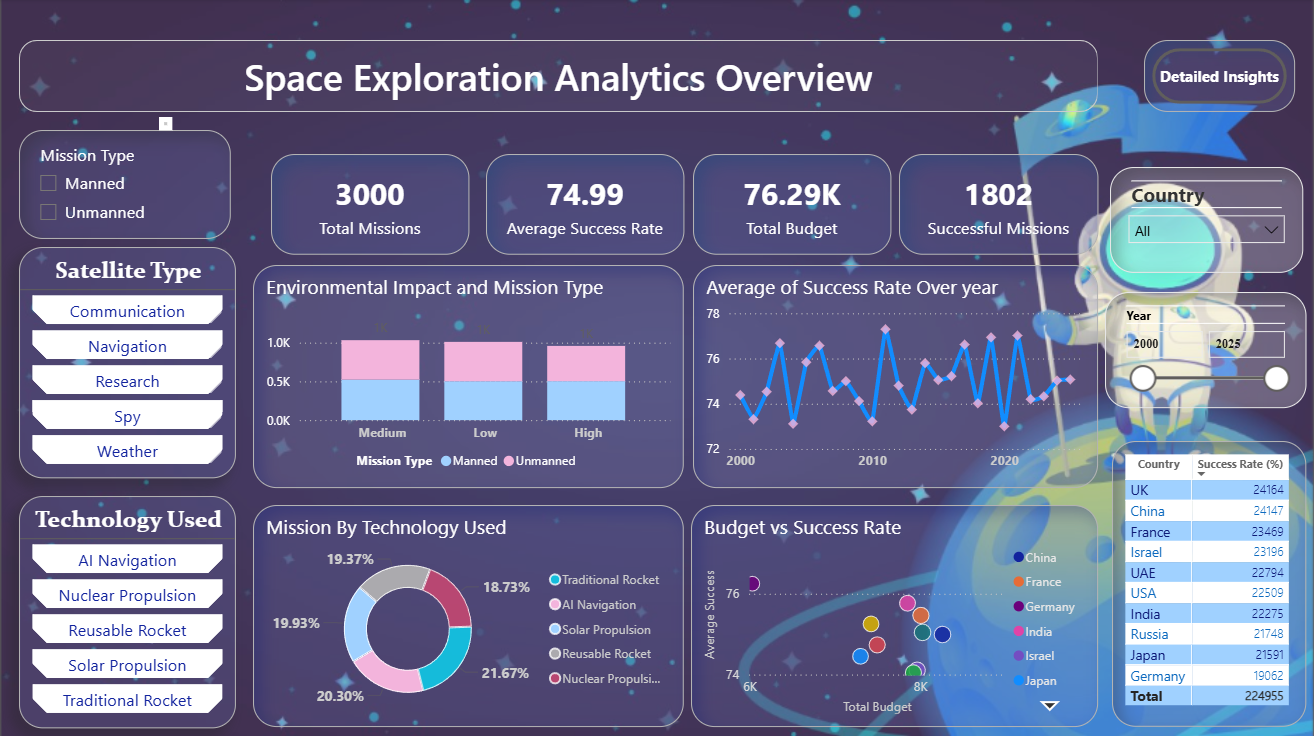

The dashboard page shown, as its layout file describes it:
{"tool":"powerbi","page":{"name":"Page 1","canvas":[1280,720],"ordinal":0},"visuals":[{"type":"card","fields":{"Values":["Global_Space_Exploration_Dataset.Total Missions"]},"box":[263.6,150.8,192.6,98.2],"z":0},{"type":"card","fields":{"Values":["Global_Space_Exploration_Dataset.Total Budget"]},"box":[674,150.8,192.6,98.2],"z":1000},{"type":"card","fields":{"Values":["Avg(Global_Space_Exploration_Dataset.Success Rate (%))"]},"box":[472.7,150.8,192.6,98.2],"z":2000},{"type":"card","fields":{"Values":["Global_Space_Exploration_Dataset.Successful Missions Count"]},"box":[874.4,150.8,193.6,98.2],"z":3000},{"type":"lineChart","title":"Average of Success Rate Over year","fields":{"Y":["Avg(Global_Space_Exploration_Dataset.Success Rate (%))"],"Category":["Global_Space_Exploration_Dataset.Year.Variation.Date Hierarchy.Year"]},"box":[674,258.7,393.9,216.9],"z":4000},{"type":"slicer","fields":{"Values":["Global_Space_Exploration_Dataset.Mission Type"]},"box":[24.3,127.4,200.4,106],"z":5000},{"type":"listSlicer","fields":{"Values":["Global_Space_Exploration_Dataset.Technology Used"]},"box":[18.5,483.4,211.1,225.7],"z":6000},{"type":"listSlicer","fields":{"Values":["Global_Space_Exploration_Dataset.Satellite Type"]},"box":[18.5,241.2,211.1,224.7],"z":7000},{"type":"slicer","fields":{"Values":["Global_Space_Exploration_Dataset.Year"]},"box":[1074.8,285,195.5,112.8],"z":8000},{"type":"scatterChart","title":"Budget vs Success Rate","fields":{"X":["Global_Space_Exploration_Dataset.Total Budget"],"Y":["Avg(Global_Space_Exploration_Dataset.Success Rate (%))"],"Series":["Global_Space_Exploration_Dataset.Country"],"Size":["Global_Space_Exploration_Dataset.Total Missions"]},"box":[672.1,492.2,395.9,215.9],"z":9000},{"type":"donutChart","title":"Mission By Technology Used","fields":{"Category":["Global_Space_Exploration_Dataset.Technology Used"],"Y":["CountNonNull(Global_Space_Exploration_Dataset.Mission Name)"]},"box":[246.1,492.2,419.2,215.9],"z":10000},{"type":"columnChart","title":"Environmental Impact and Mission Type","fields":{"Y":["Global_Space_Exploration_Dataset.Total Missions"],"Category":["Global_Space_Exploration_Dataset.Environmental Impact"],"Series":["Global_Space_Exploration_Dataset.Mission Type"]},"box":[246.1,258.7,419.2,216.9],"z":11000},{"type":"shape","box":[250,39.9,829.7,70],"z":12000},{"type":"textbox","box":[154.7,114.8,12.6,12.6],"z":13000},{"type":"pivotTable","fields":{"Rows":["Global_Space_Exploration_Dataset.Country"],"Values":["Sum(Global_Space_Exploration_Dataset.Success Rate (%))"]},"box":[1081.6,429.9,188.7,278.2],"z":14000},{"type":"actionButton","title":"De","box":[34,45.7,163.4,58.4],"z":15000},{"type":"slicer","fields":{"Values":["Global_Space_Exploration_Dataset.Country"]},"box":[1079.6,163.4,187.7,103.1],"z":16000}]}

Visuals, with their boxes in screenshot pixels (x1, y1, x2, y2), scaled from the page's 1280x720 canvas onto the 1314x736 screenshot:
card - Global_Space_Exploration_Dataset.Total Missions: left=271, top=154, right=468, bottom=255
card - Global_Space_Exploration_Dataset.Total Budget: left=692, top=154, right=890, bottom=255
card - Avg(Global_Space_Exploration_Dataset.Success Rate (%)): left=485, top=154, right=683, bottom=255
card - Global_Space_Exploration_Dataset.Successful Missions Count: left=898, top=154, right=1096, bottom=255
"Average of Success Rate Over year" lineChart: left=692, top=264, right=1096, bottom=486
slicer - Global_Space_Exploration_Dataset.Mission Type: left=25, top=130, right=231, bottom=239
listSlicer - Global_Space_Exploration_Dataset.Technology Used: left=19, top=494, right=236, bottom=725
listSlicer - Global_Space_Exploration_Dataset.Satellite Type: left=19, top=247, right=236, bottom=476
slicer - Global_Space_Exploration_Dataset.Year: left=1103, top=291, right=1304, bottom=407
"Budget vs Success Rate" scatterChart: left=690, top=503, right=1096, bottom=724
"Mission By Technology Used" donutChart: left=253, top=503, right=683, bottom=724
"Environmental Impact and Mission Type" columnChart: left=253, top=264, right=683, bottom=486
shape: left=257, top=41, right=1108, bottom=112
textbox: left=159, top=117, right=172, bottom=130
pivotTable - Global_Space_Exploration_Dataset.Country x Sum(Global_Space_Exploration_Dataset.Success Rate (%)): left=1110, top=439, right=1304, bottom=724
"De" actionButton: left=35, top=47, right=203, bottom=106
slicer - Global_Space_Exploration_Dataset.Country: left=1108, top=167, right=1301, bottom=272
